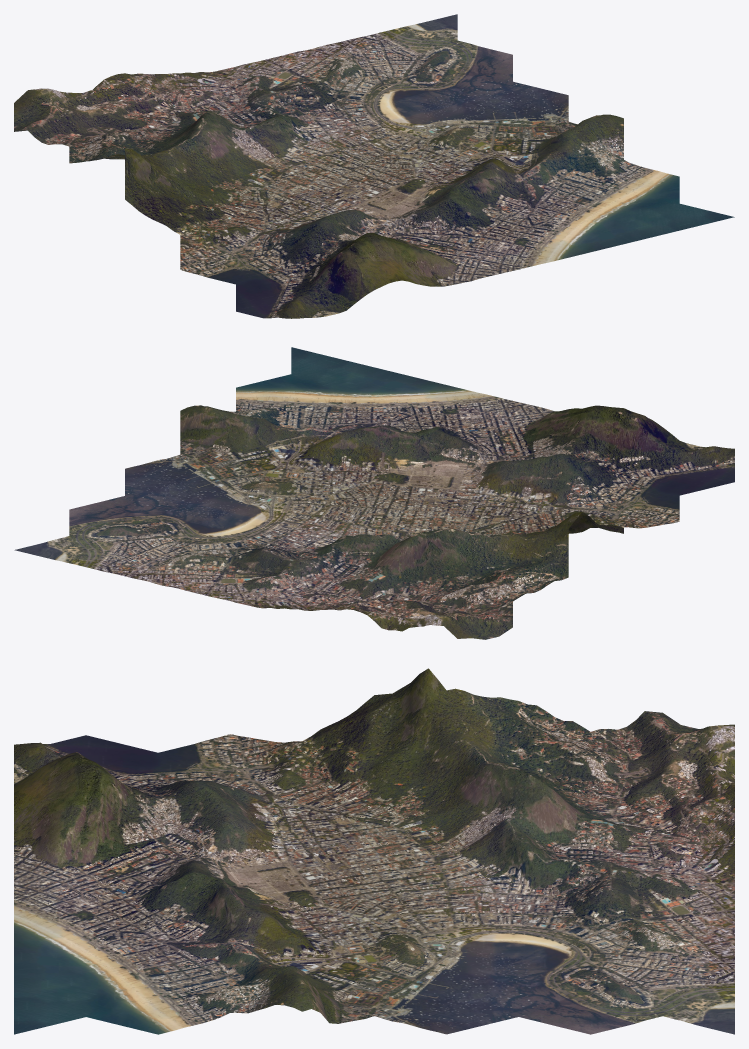
Rendered from Venue_Terrain.fbx.
The picture shows the model from 3 angles, top to bottom: view 1: azimuth 30°, elevation 25°; view 2: azimuth 150°, elevation 25°; view 3: azimuth 270°, elevation 25°; orthographic projection. The views are drawn at different scales.
Parts seen in each view (by area): view 1: TERRAIN0; view 2: TERRAIN0; view 3: TERRAIN0.
Part boxes in pixels (x1,y1,x2,y2): TERRAIN0: (14, 14, 734, 318); TERRAIN0: (14, 347, 734, 639); TERRAIN0: (14, 668, 734, 1034).
Bounding box in the file's own units: 4250 × 539 × 4330.
